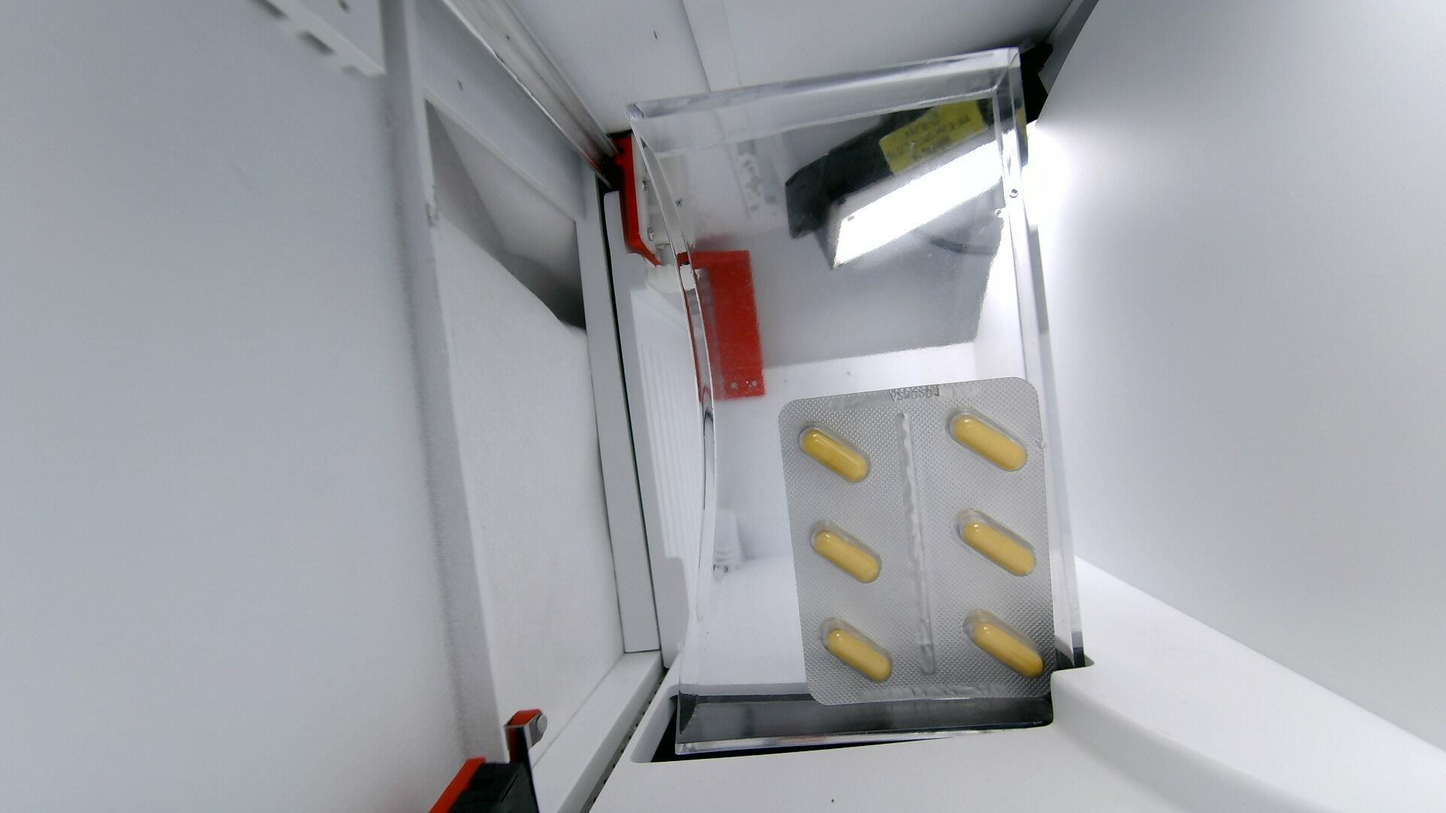Light Front: (779, 375, 1053, 706)
Pill Front: (946, 405, 1028, 471), (957, 510, 1036, 576), (810, 521, 881, 583), (801, 425, 870, 482), (969, 620, 1042, 671), (825, 627, 891, 681)
